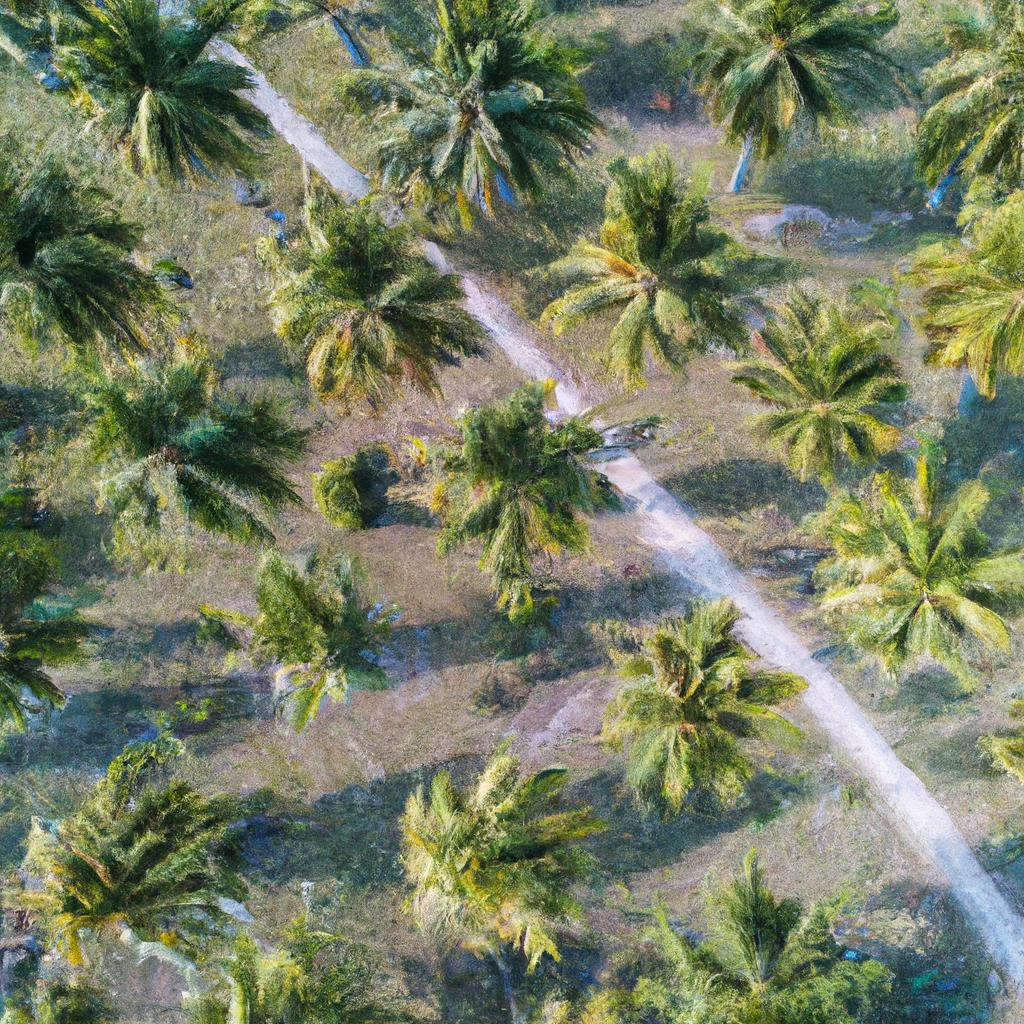coconut_tree: (585, 569, 855, 832), (14, 726, 273, 974), (524, 140, 771, 390), (378, 735, 632, 977), (247, 186, 514, 416), (343, 4, 625, 216), (422, 372, 660, 615), (73, 332, 300, 561), (798, 462, 1016, 699), (43, 0, 290, 185), (225, 543, 433, 742), (725, 286, 939, 467)
